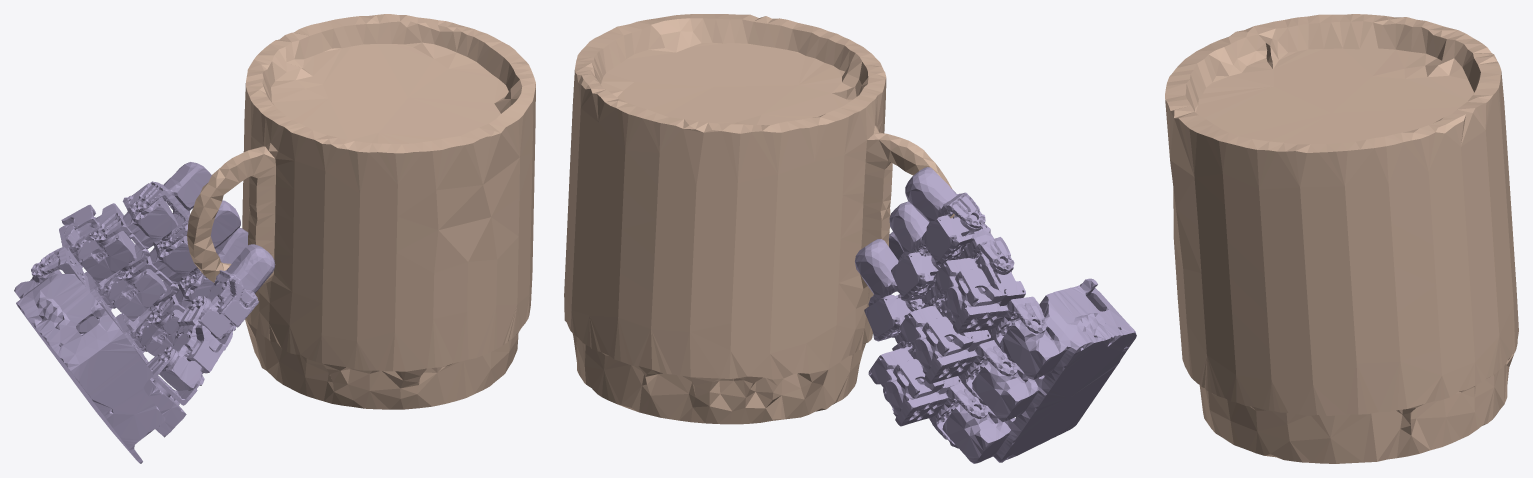
Rendered from case-09-final.glb.
3 views of the same model, side by side, from view 1: azimuth 30°, elevation 25°; view 2: azimuth 150°, elevation 25°; view 3: azimuth 270°, elevation 25° (orthographic). The views are drawn at different scales.
Parts seen in each view (by area): view 1: simplified.obj, world; view 2: simplified.obj, world; view 3: simplified.obj.
Part boxes in pixels (x1,y1,x2,y2): simplified.obj: (187, 14, 535, 409); world: (14, 162, 275, 463); simplified.obj: (564, 14, 954, 424); world: (855, 167, 1136, 463); simplified.obj: (1165, 14, 1518, 463).
Bounding box in the file's own units: 0.3956 × 0.2319 × 0.2167.
